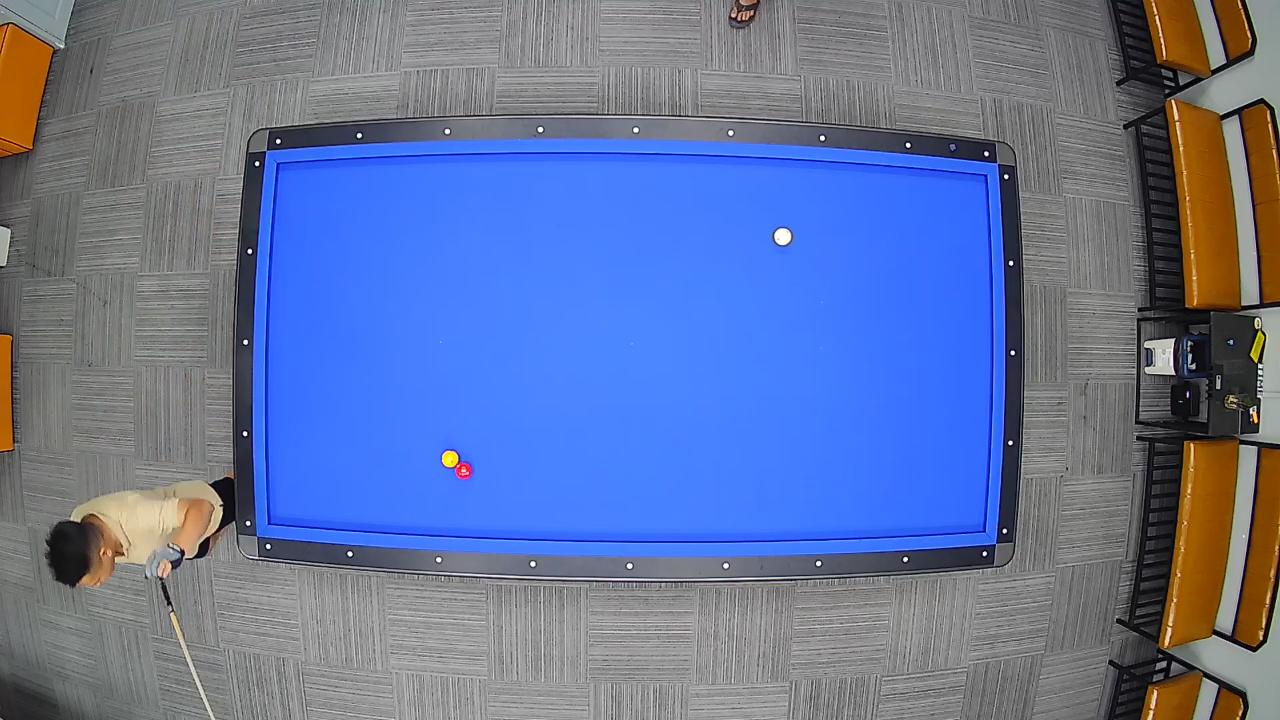Red: (455, 462, 473, 481)
White: (772, 226, 793, 248)
Yellow: (440, 449, 460, 469)
